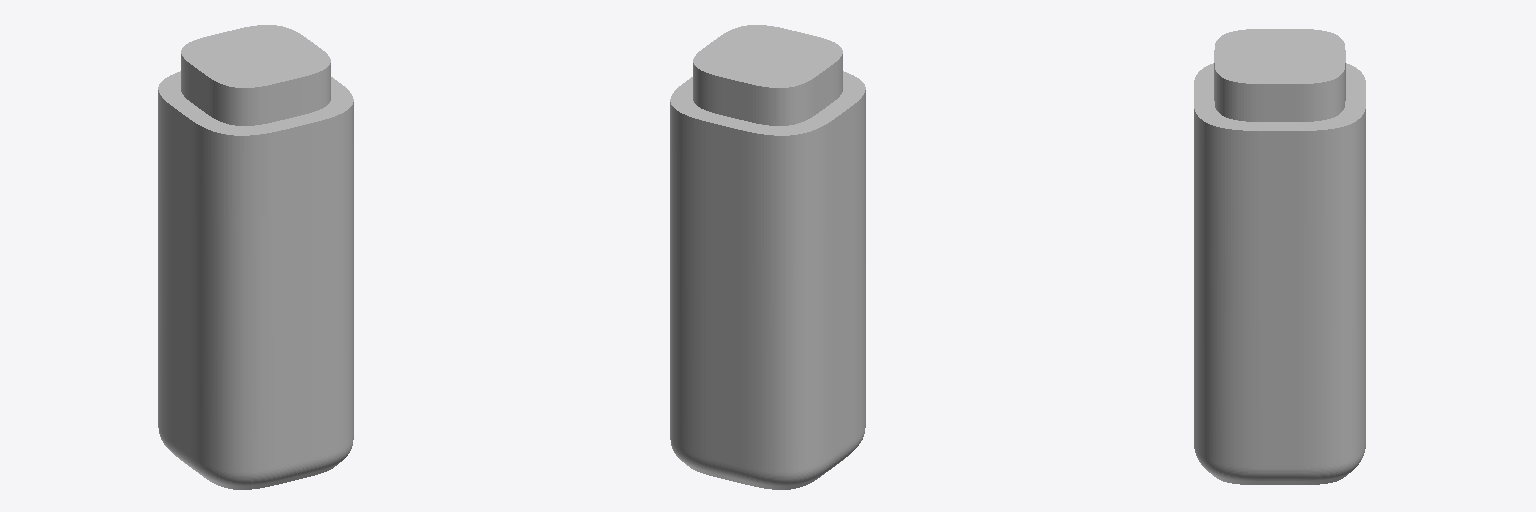
The model's file is 07_king.obj.
The picture shows the model from 3 angles: view 1: azimuth 30°, elevation 25°; view 2: azimuth 150°, elevation 25°; view 3: azimuth 270°, elevation 25°; orthographic projection.
Parts seen in each view (by area): view 1: King_-_x1pc_by_colour_-_001; view 2: King_-_x1pc_by_colour_-_001; view 3: King_-_x1pc_by_colour_-_001.
Part boxes in pixels (bbox=[...]): King_-_x1pc_by_colour_-_001: bbox=[158, 25, 353, 489]; King_-_x1pc_by_colour_-_001: bbox=[670, 25, 865, 489]; King_-_x1pc_by_colour_-_001: bbox=[1194, 29, 1365, 484].
Size of the model in its own units: 16.5 by 42 by 16.5.